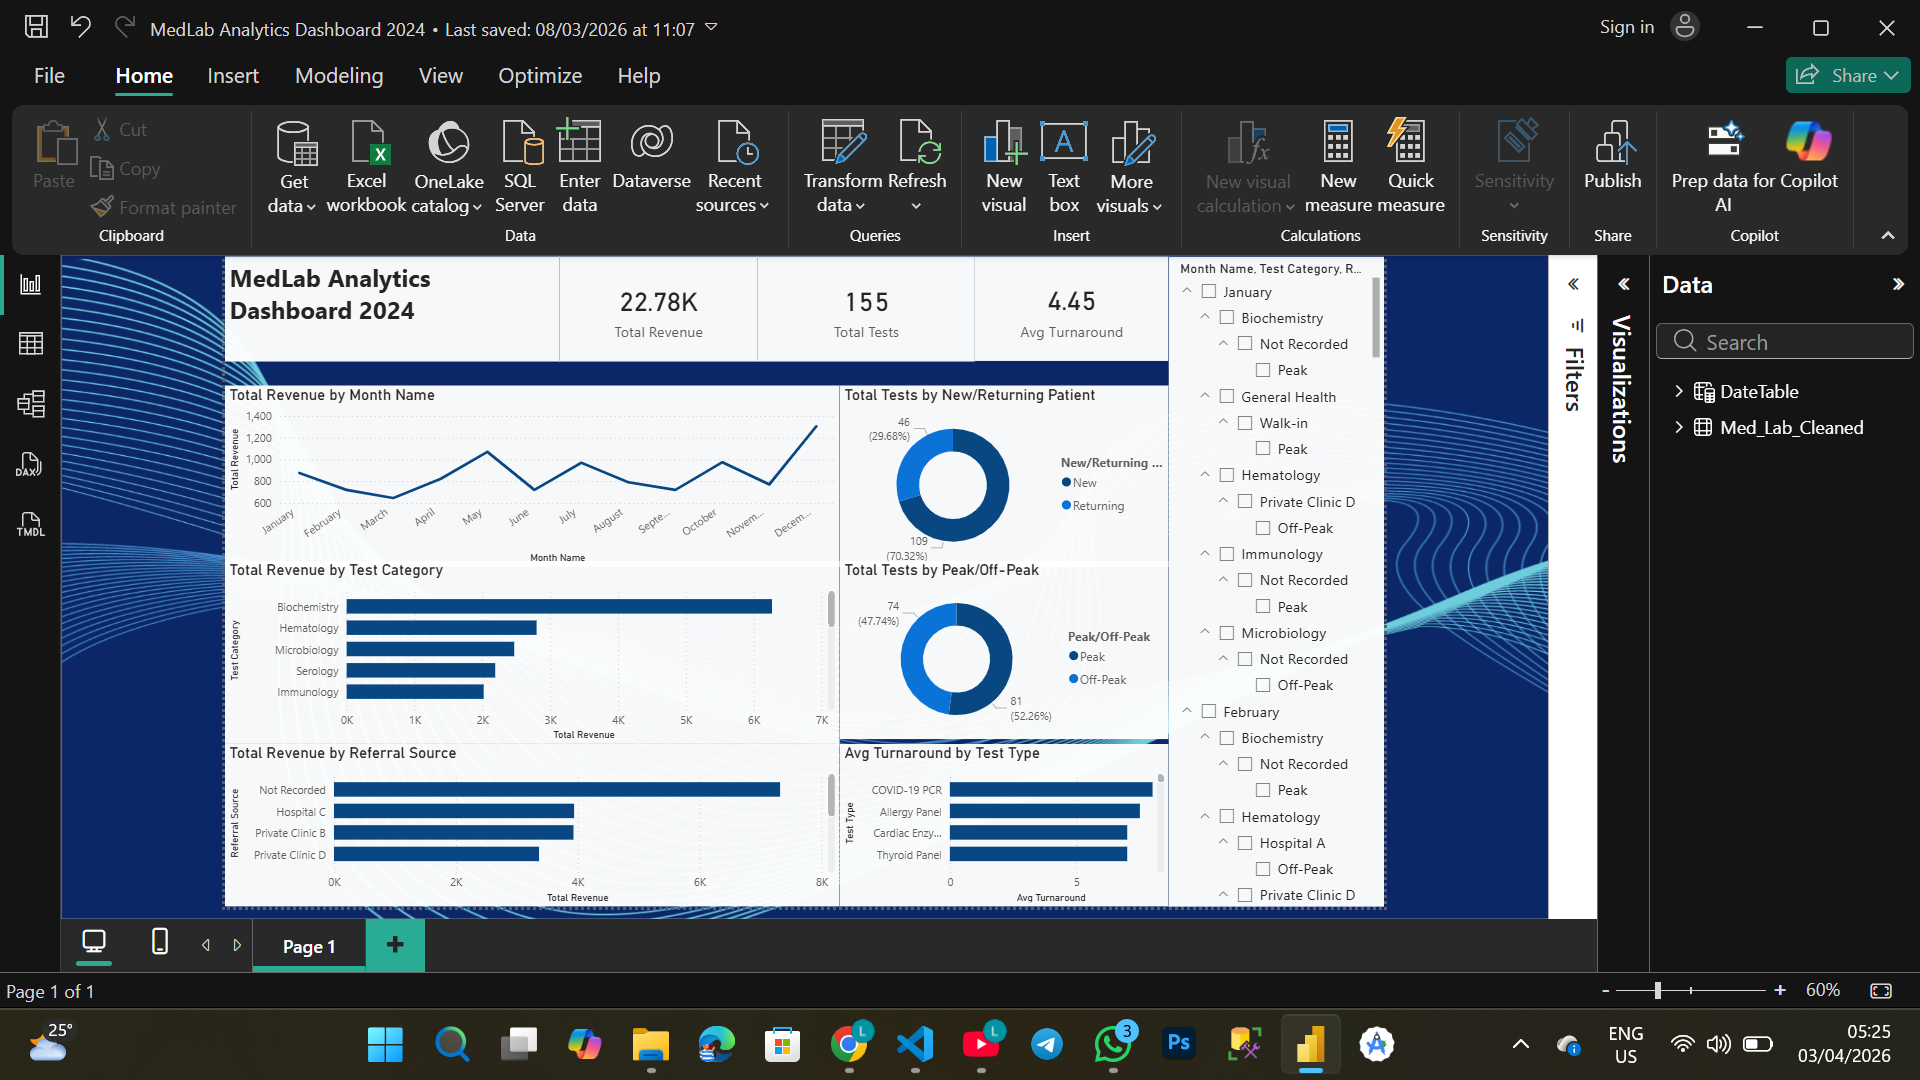

The dashboard page shown, as its layout file describes it:
{"tool":"powerbi","page":{"name":"Page 1","canvas":[1280,720],"ordinal":0},"visuals":[{"type":"card","fields":{"Values":["Med_Lab_Cleaned.Total Revenue"]},"box":[369.4,1.7,218.7,116],"z":0},{"type":"card","fields":{"Values":["Med_Lab_Cleaned.Total Tests"]},"box":[588.1,1.7,240.2,116],"z":1000},{"type":"card","fields":{"Values":["Med_Lab_Cleaned.Avg Turnaround"]},"box":[827.7,1.9,213.5,115.3],"z":2000},{"type":"lineChart","fields":{"Category":["DateTable.Month Name"],"Y":["Med_Lab_Cleaned.Total Revenue"]},"box":[0,143.6,678.4,200.3],"z":3000},{"type":"clusteredBarChart","fields":{"Category":["Med_Lab_Cleaned.Test Category"],"Y":["Med_Lab_Cleaned.Total Revenue"]},"box":[0,338.5,678.4,202.2],"z":4000},{"type":"donutChart","fields":{"Category":["Med_Lab_Cleaned.New/Returning Patient"],"Y":["Med_Lab_Cleaned.Total Tests"]},"box":[678.4,143.6,362.8,200.3],"z":5000},{"type":"donutChart","fields":{"Category":["Med_Lab_Cleaned.Peak/Off-Peak"],"Y":["Med_Lab_Cleaned.Total Tests"]},"box":[678.4,338.5,362.8,196.5],"z":6000},{"type":"clusteredBarChart","fields":{"Category":["Med_Lab_Cleaned.Referral Source"],"Y":["Med_Lab_Cleaned.Total Revenue"]},"box":[0,540.5,678.4,179.5],"z":7000},{"type":"clusteredBarChart","fields":{"Category":["Med_Lab_Cleaned.Test Type"],"Y":["Med_Lab_Cleaned.Avg Turnaround"]},"box":[678.4,540.5,362.8,179.5],"z":8000},{"type":"slicer","fields":{"Values":["DateTable.Month Name","Med_Lab_Cleaned.Test Category","Med_Lab_Cleaned.Referral Source","Med_Lab_Cleaned.Peak/Off-Peak"]},"box":[1041.3,1.9,238.1,718.1],"z":9000},{"type":"textbox","box":[0,1.7,369.4,116],"z":11000}]}

Visuals, with their boxes on the page's 1280x720 design canvas (x1, y1, x2, y2). These are canvas units, not pixel positions in the 1920x1080 screenshot, which may show the page scaled, cropped or inside an application window:
card - Med_Lab_Cleaned.Total Revenue: (x1=369, y1=2, x2=588, y2=118)
card - Med_Lab_Cleaned.Total Tests: (x1=588, y1=2, x2=828, y2=118)
card - Med_Lab_Cleaned.Avg Turnaround: (x1=828, y1=2, x2=1041, y2=117)
lineChart - DateTable.Month Name x Med_Lab_Cleaned.Total Revenue: (x1=0, y1=144, x2=678, y2=344)
clusteredBarChart - Med_Lab_Cleaned.Test Category x Med_Lab_Cleaned.Total Revenue: (x1=0, y1=338, x2=678, y2=541)
donutChart - Med_Lab_Cleaned.New/Returning Patient x Med_Lab_Cleaned.Total Tests: (x1=678, y1=144, x2=1041, y2=344)
donutChart - Med_Lab_Cleaned.Peak/Off-Peak x Med_Lab_Cleaned.Total Tests: (x1=678, y1=338, x2=1041, y2=535)
clusteredBarChart - Med_Lab_Cleaned.Referral Source x Med_Lab_Cleaned.Total Revenue: (x1=0, y1=540, x2=678, y2=720)
clusteredBarChart - Med_Lab_Cleaned.Test Type x Med_Lab_Cleaned.Avg Turnaround: (x1=678, y1=540, x2=1041, y2=720)
slicer - DateTable.Month Name x Med_Lab_Cleaned.Test Category: (x1=1041, y1=2, x2=1279, y2=720)
textbox: (x1=0, y1=2, x2=369, y2=118)
